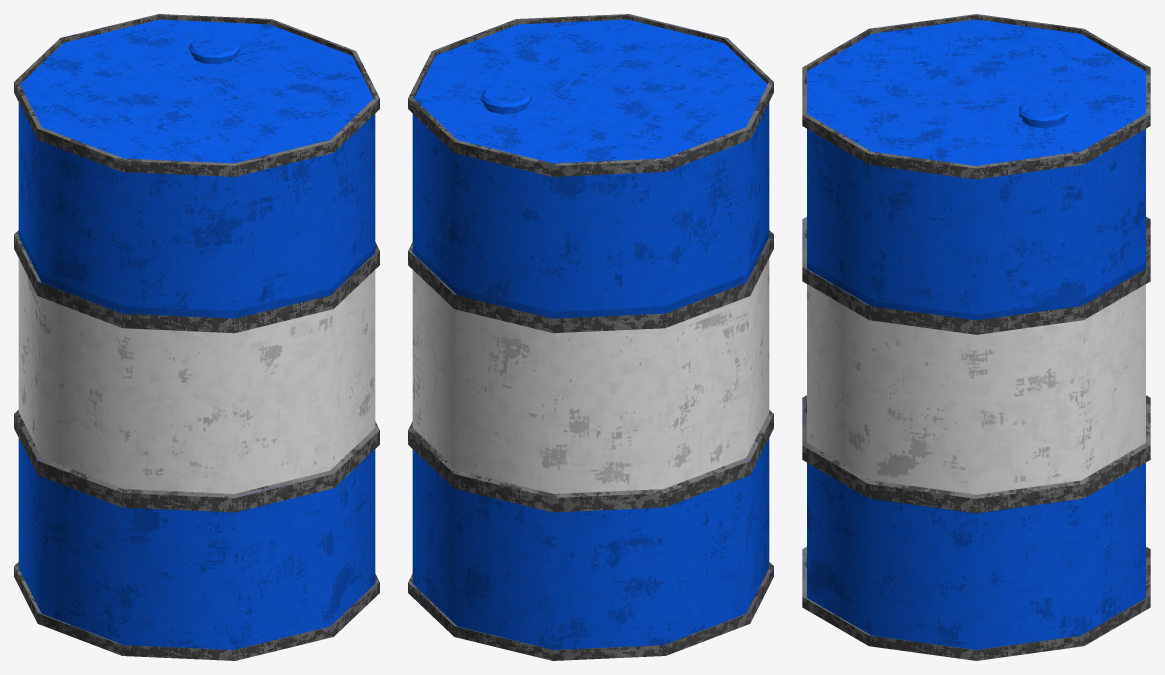
Rendered from IceBarrel.fbx.
The picture shows the model from 3 angles, left to right: view 1: azimuth 30°, elevation 25°; view 2: azimuth 150°, elevation 25°; view 3: azimuth 270°, elevation 25°; orthographic projection.
Visible parts, largest first — view 1: Cylinder_3, Cylinder_4; view 2: Cylinder_3, Cylinder_4; view 3: Cylinder_3, Cylinder_4.
Boxes of the visible parts, bbox=[...] form: Cylinder_3: bbox=[14, 14, 379, 660]; Cylinder_4: bbox=[188, 35, 239, 64]; Cylinder_3: bbox=[408, 14, 773, 660]; Cylinder_4: bbox=[480, 84, 531, 114]; Cylinder_3: bbox=[802, 14, 1150, 660]; Cylinder_4: bbox=[1019, 98, 1067, 128].
Size of the model in its own units: 197 by 298 by 187.
